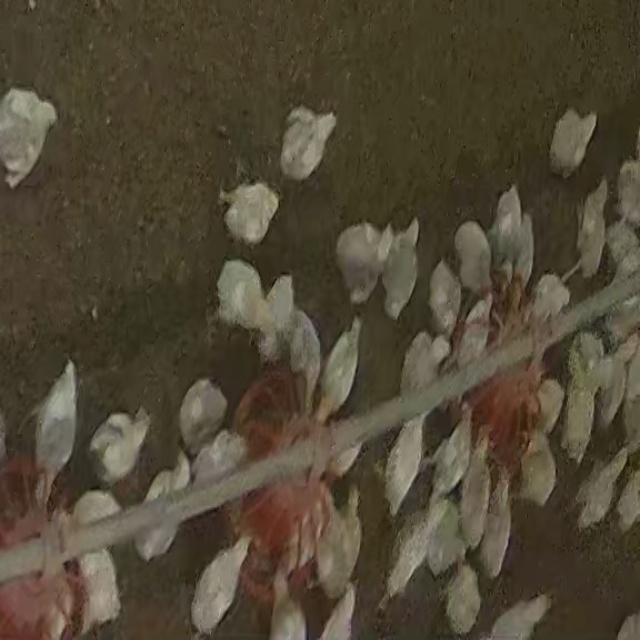chicken: (190, 536, 249, 632), (132, 463, 188, 563), (387, 501, 440, 603), (37, 358, 79, 482), (560, 340, 601, 460), (332, 222, 389, 304), (90, 408, 150, 485), (224, 177, 284, 249), (385, 415, 426, 516), (382, 217, 422, 320), (319, 317, 360, 417), (572, 448, 622, 530), (570, 178, 609, 283), (76, 545, 121, 633), (327, 490, 369, 583), (179, 376, 229, 454), (547, 106, 599, 178), (477, 476, 512, 578), (217, 261, 267, 331), (430, 416, 470, 503), (280, 110, 336, 172), (488, 185, 524, 280), (452, 219, 493, 298), (190, 430, 243, 489), (285, 307, 322, 389), (518, 437, 558, 509), (596, 346, 625, 432), (448, 564, 484, 632), (428, 258, 461, 332), (400, 334, 436, 398), (264, 274, 297, 342), (315, 588, 356, 637), (467, 298, 496, 363), (535, 270, 573, 316)
